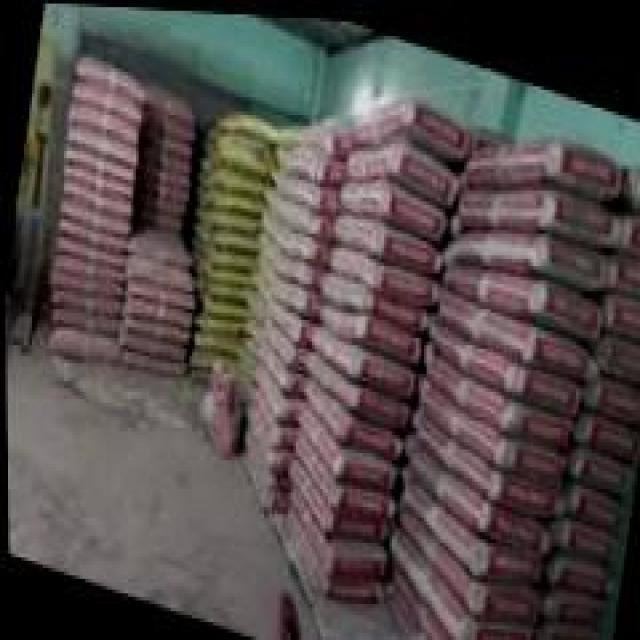gunny_bag: (389, 529, 526, 640), (413, 422, 557, 522), (413, 386, 561, 483), (436, 288, 590, 376), (399, 486, 539, 580), (431, 324, 577, 413), (407, 454, 546, 547), (424, 354, 565, 439), (440, 259, 599, 334), (458, 187, 617, 244), (283, 510, 380, 601), (467, 137, 621, 192), (285, 459, 381, 543), (452, 229, 600, 282), (305, 353, 405, 429), (296, 415, 393, 493), (328, 207, 440, 273), (346, 140, 456, 205), (301, 386, 396, 461), (307, 327, 410, 394), (325, 240, 434, 303), (319, 271, 428, 332), (353, 95, 468, 150), (337, 181, 446, 238), (317, 301, 418, 358), (387, 568, 449, 640), (572, 407, 637, 457), (67, 100, 136, 145), (570, 445, 632, 495), (544, 552, 606, 596), (127, 274, 195, 314), (76, 63, 142, 104), (566, 480, 622, 528), (70, 128, 135, 168), (252, 392, 294, 452), (60, 203, 130, 238), (258, 346, 305, 398), (243, 439, 287, 494), (55, 233, 122, 269), (586, 373, 640, 417), (558, 515, 610, 560), (49, 266, 118, 299), (282, 174, 338, 214), (54, 307, 117, 342), (67, 153, 130, 185), (600, 325, 640, 375), (123, 313, 186, 344), (118, 349, 184, 378), (541, 583, 593, 617), (215, 165, 263, 200), (606, 288, 640, 330), (210, 208, 258, 236), (604, 251, 640, 287), (283, 204, 320, 235), (277, 230, 310, 263), (541, 620, 595, 640), (272, 255, 310, 282), (270, 308, 299, 343), (272, 282, 305, 310), (206, 281, 244, 303), (620, 210, 640, 248)
